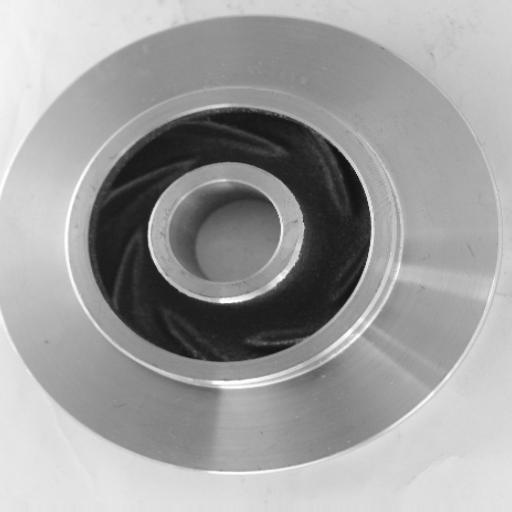polished_casting: (0, 15, 498, 476)
